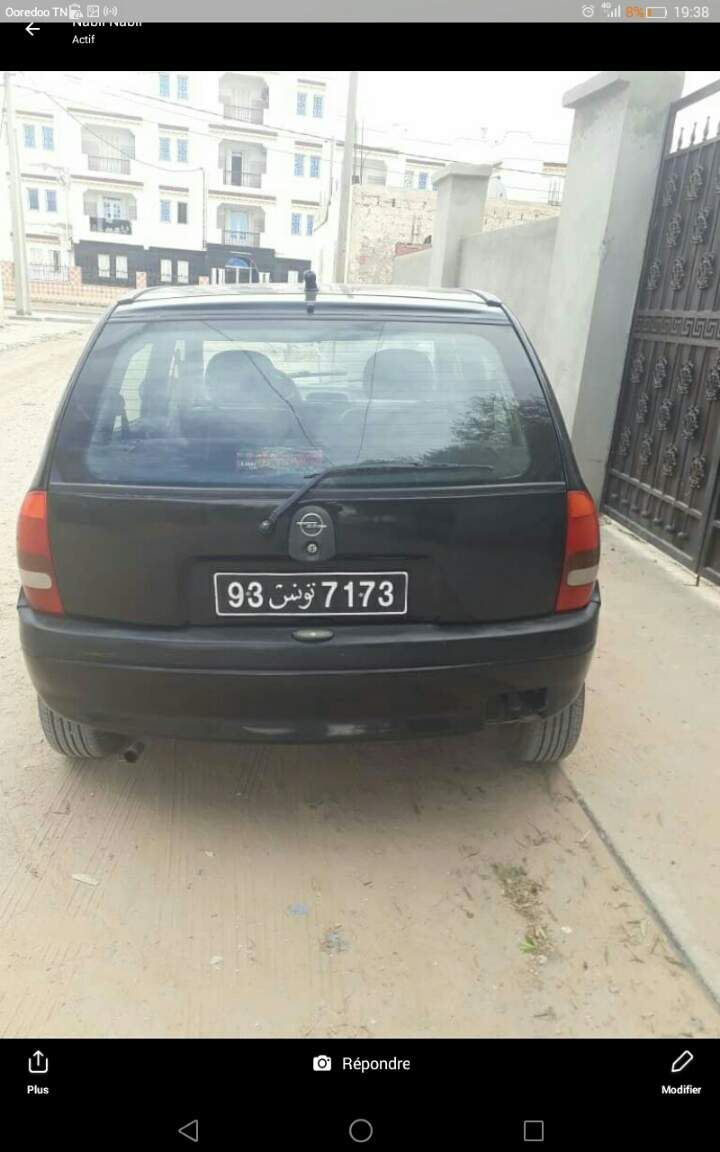LP: (213, 569, 409, 618)
